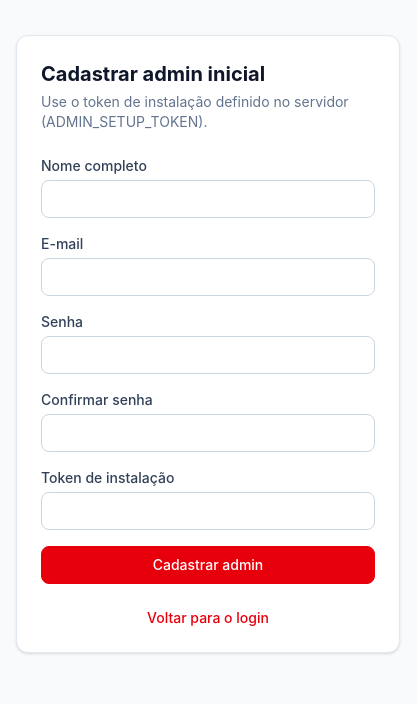
Test case: SetupAdminPage › depois de cadastrar, limpa o formulário e mostra o aviso de sucesso
In the field labelled "Nome completo": (208, 199) [41,180,375,218], type "Admin Teste"
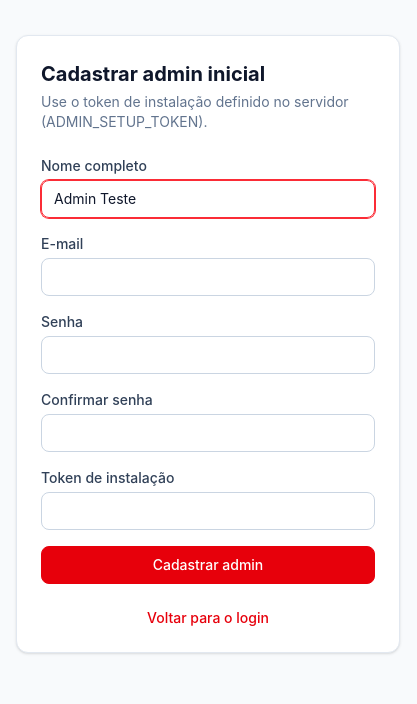
In the field labelled "E-mail": (208, 277) [41,258,375,296], type "admin@example.com"
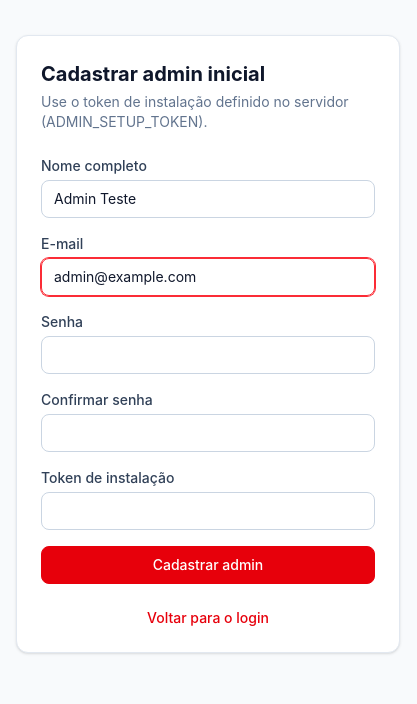
In the password field labelled "Senha": (208, 355) [41,336,375,374], type "senhaForte123"
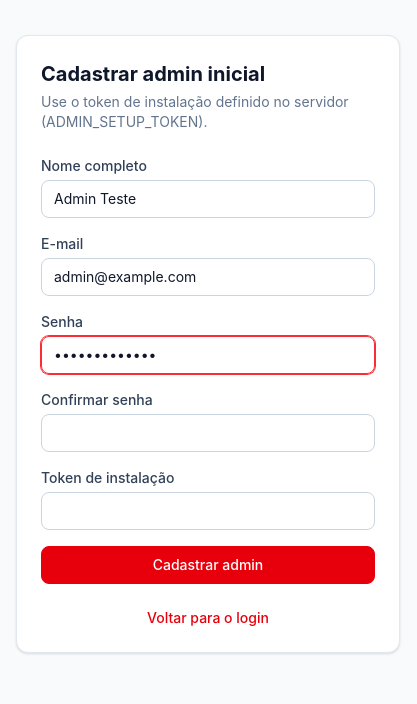
In the password field labelled "Confirmar senha": (208, 433) [41,414,375,452], type "senhaForte123"
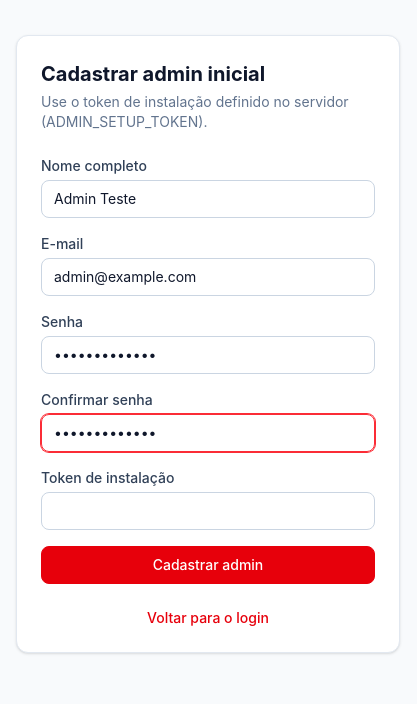
In the password field labelled "Token de instalação": (208, 511) [41,492,375,530], type "token"
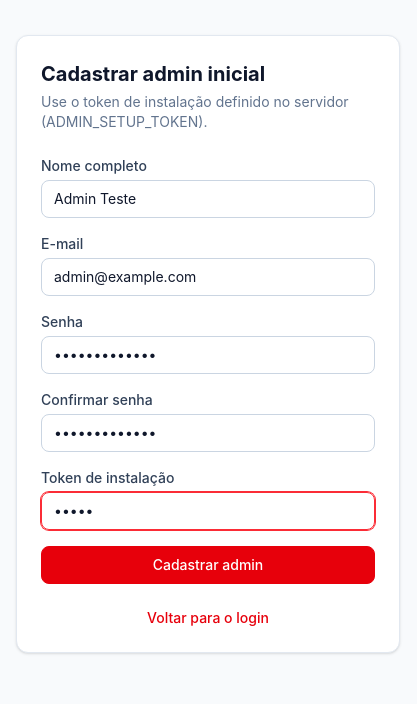
Click the button "Cadastrar admin": (208, 565) [41,546,375,584]
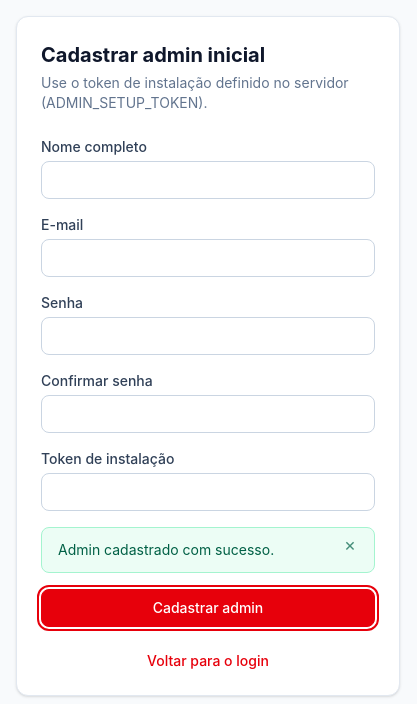
expect the text "Admin cadastrado com sucesso." is shown: met, box [58,541,274,558]
expect the field labelled "Nome completo" is empty: met, box [41,161,375,199]
